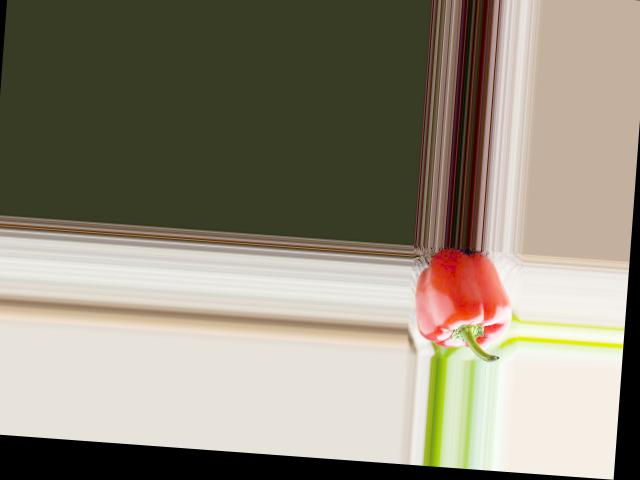bell_pepper: (413, 244, 518, 361)
